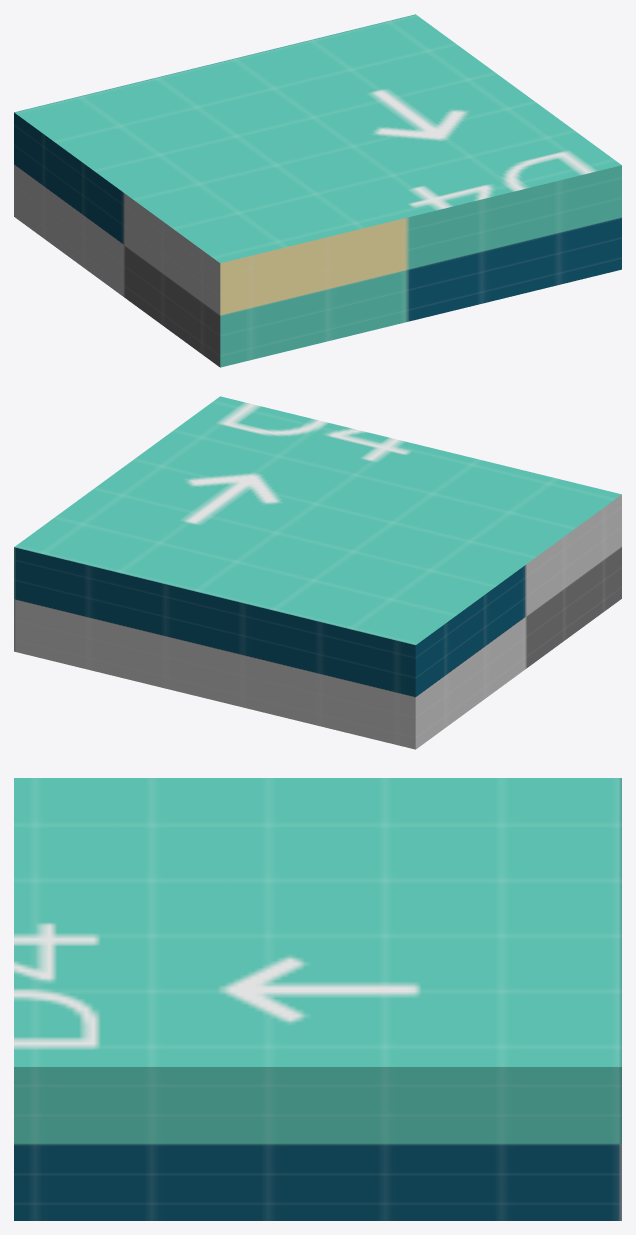
The model's file is notebook_closed.glb.
The picture shows the model from 3 angles, top to bottom: view 1: azimuth 30°, elevation 25°; view 2: azimuth 150°, elevation 25°; view 3: azimuth 270°, elevation 25°; orthographic projection. The views are drawn at different scales.
Parts seen in each view (by area): view 1: col_notebook_closed; view 2: col_notebook_closed; view 3: col_notebook_closed.
Boxes of the visible parts, x1=… form: col_notebook_closed: x1=14, y1=14, x2=621, y2=367; col_notebook_closed: x1=14, y1=396, x2=621, y2=749; col_notebook_closed: x1=14, y1=778, x2=621, y2=1220.
Bounding box in the file's own units: 0.3094 × 0.0768 × 0.275.
Materials: 1 (1 with a texture image).
